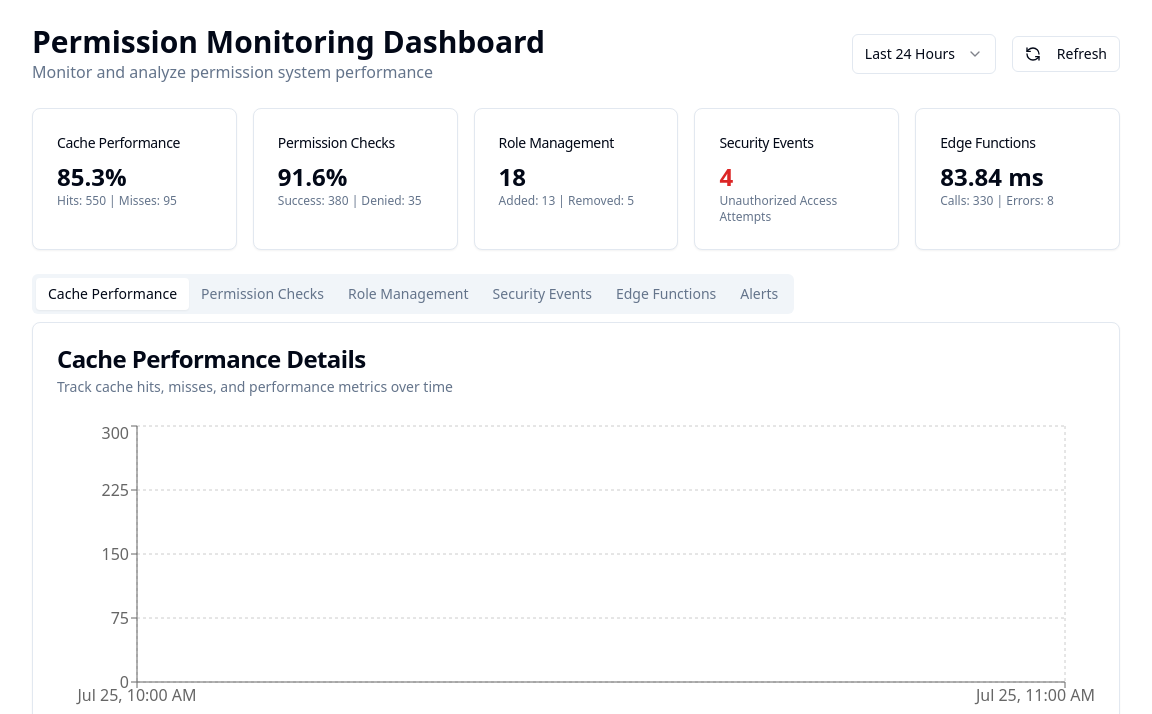
PermissionMonitoringDashboard › clicking on a tab changes the displayed content
The width and height of the screenshot is (1152, 714).
Click on the Alerts tab
Click the tab "Alerts" at (759, 294), box [728,278,790,310]
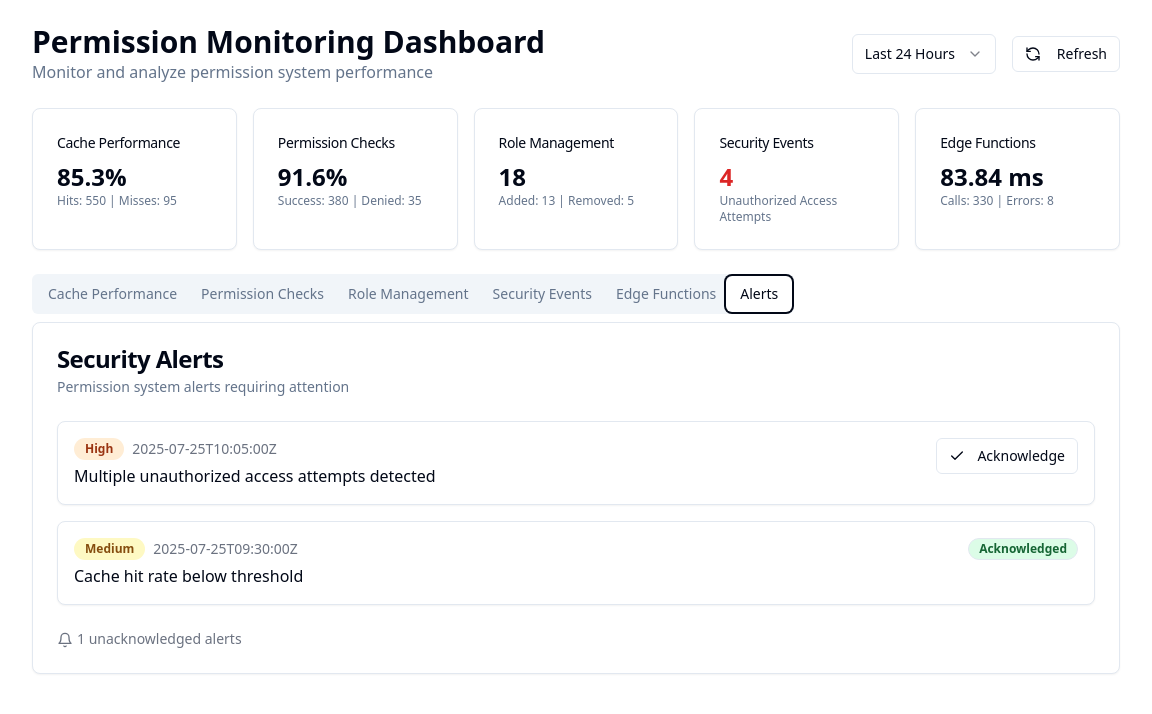
Check: the panel shows "Security Alerts", box [57,342,223,375]
